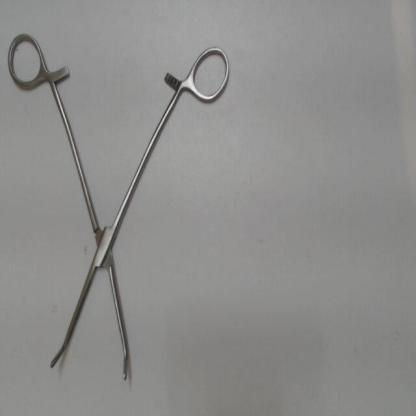Lahey Forceps: (4, 27, 234, 384)
